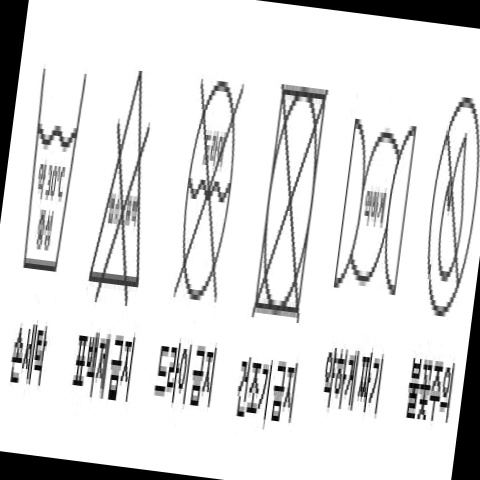30C: (10, 53, 104, 287)
DN_dry_clean: (166, 68, 259, 313)
DN_tumble_dry: (242, 79, 346, 336)
non_chlorine_bleach: (80, 65, 179, 305)
wring: (331, 111, 429, 299)
